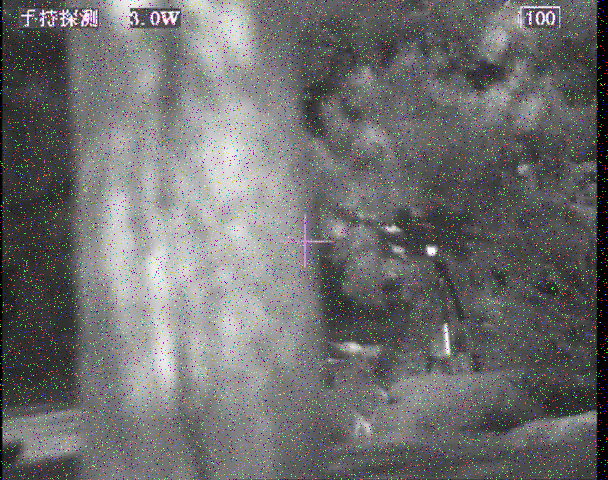my: (425, 245, 437, 257)
